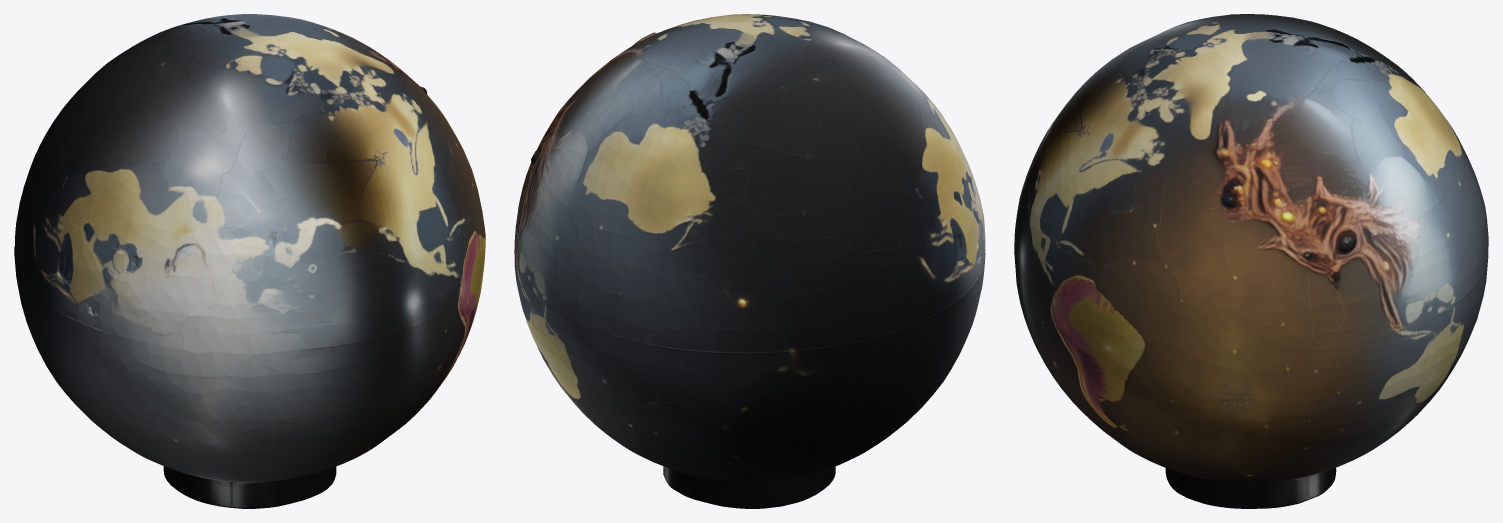
The model's file is porcelain-globe-futuristic.jpeg.glb.
3 views of the same model, side by side, from view 1: azimuth 30°, elevation 25°; view 2: azimuth 150°, elevation 25°; view 3: azimuth 270°, elevation 25° (orthographic).
Visible parts, largest first — view 1: world; view 2: world; view 3: world.
Part boxes in pixels (x1,y1,x2,y2): world: (14,14,485,508); world: (514,14,985,508); world: (1014,14,1488,508).
Size of the model in its own units: 0.982 by 0.9997 by 0.9827.
1 material, 1 textured.
